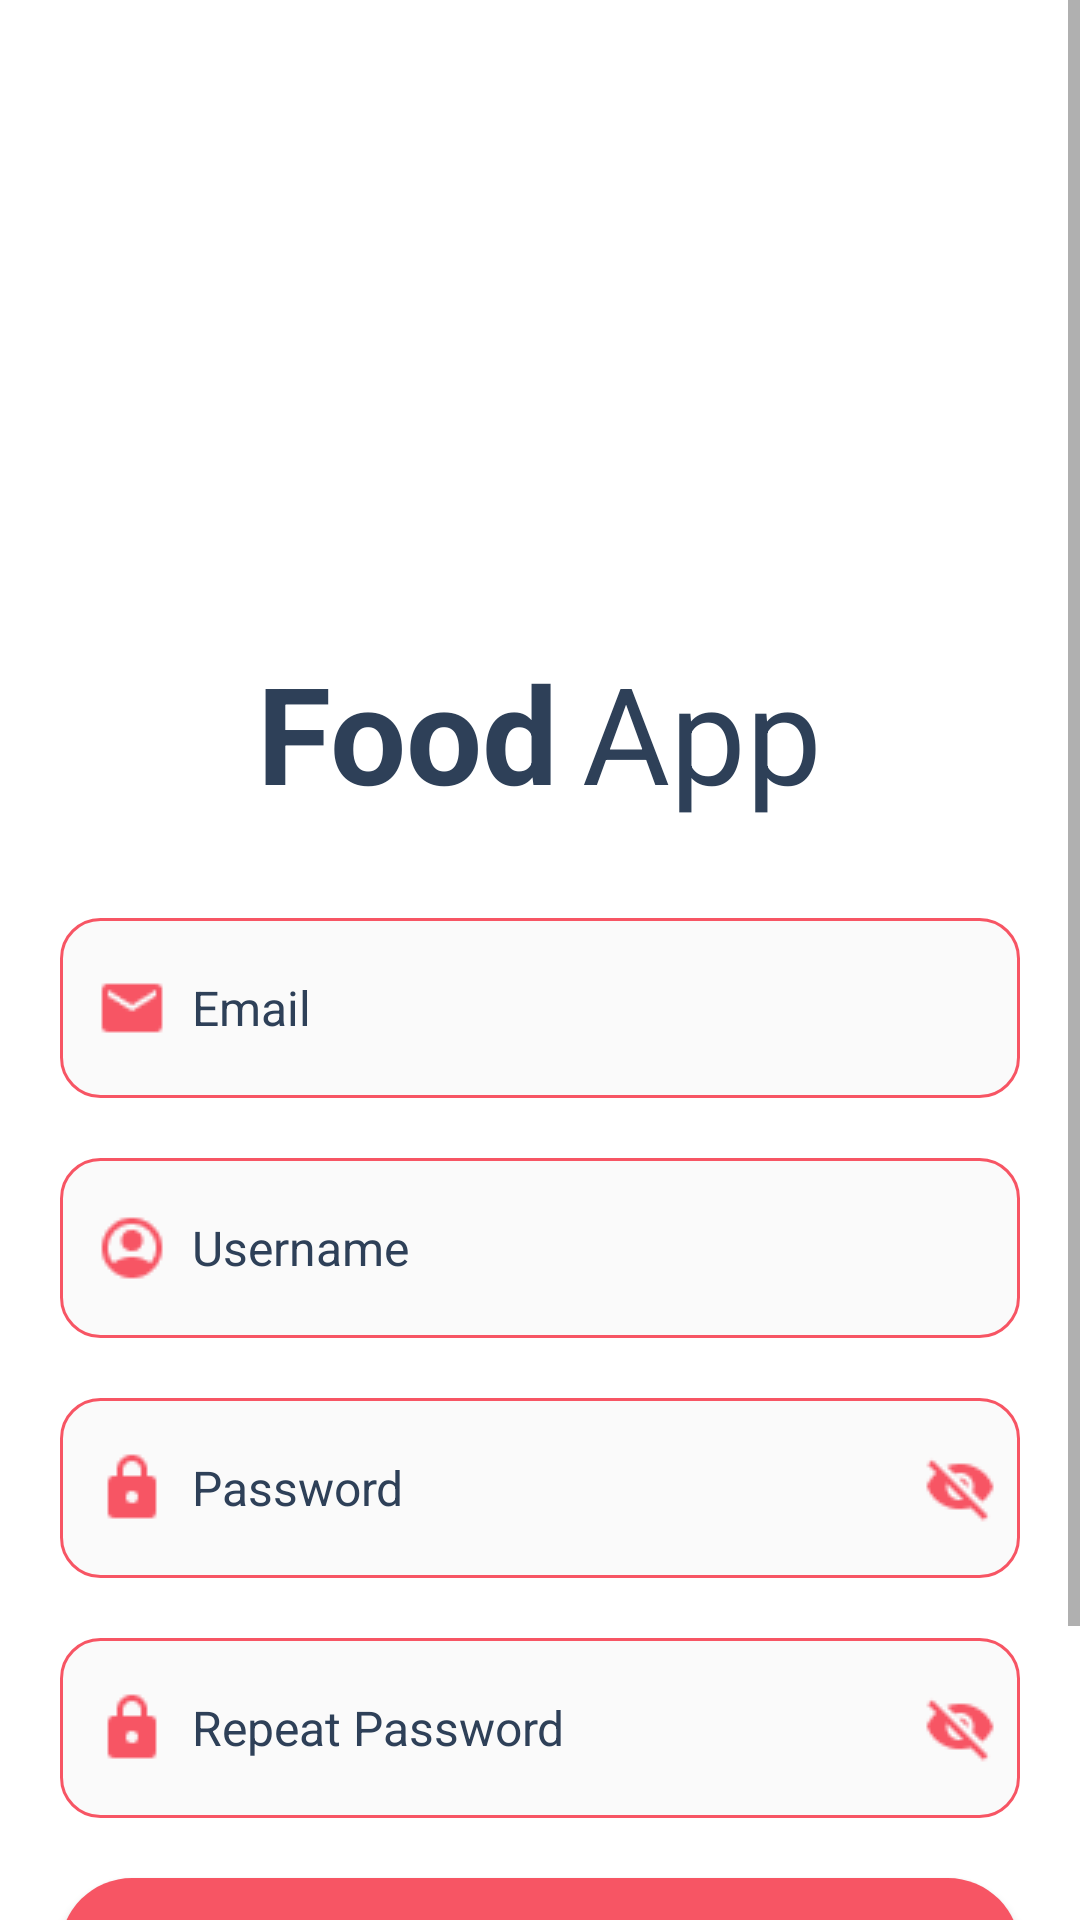

Named icons in this screenshot (1080×1920) and their centers, (x,y):
visibility off: (960,1490), (960,1730)
